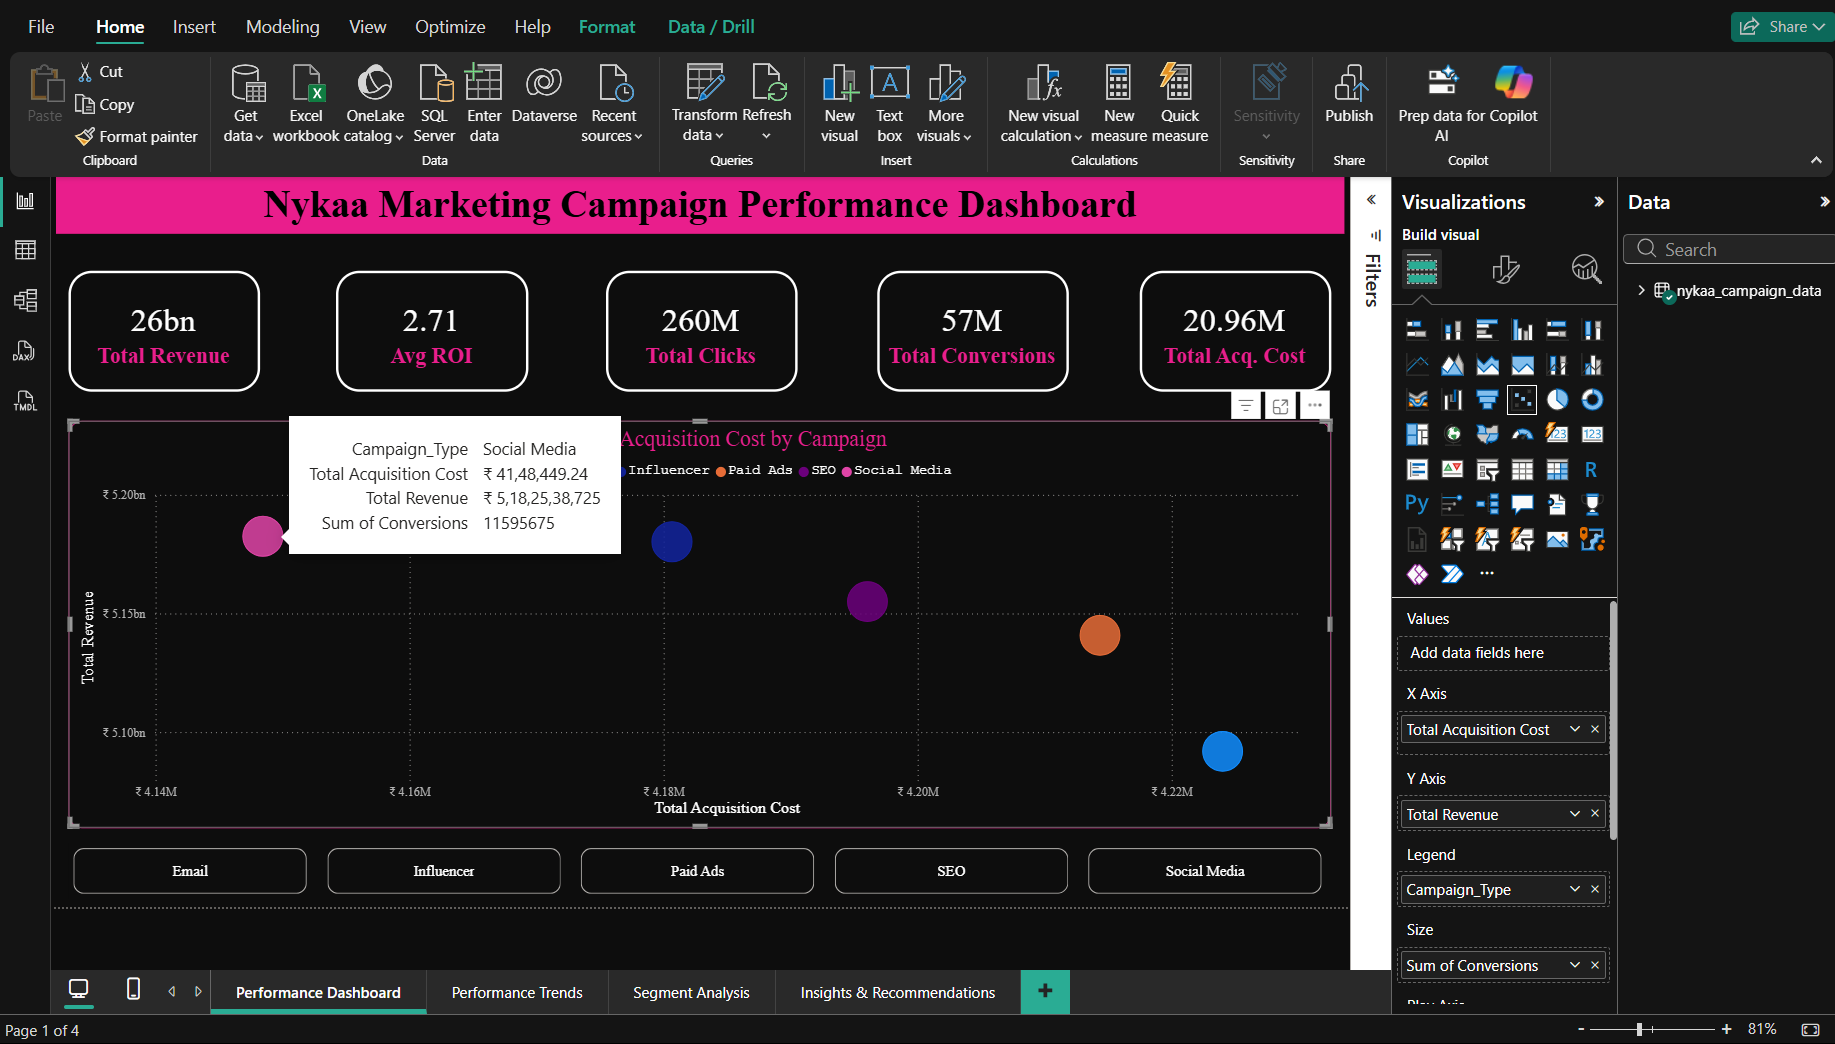

The dashboard page shown, as its layout file describes it:
{"tool":"powerbi","page":{"name":"Performance Dashboard","canvas":[1280,720],"ordinal":0},"visuals":[{"type":"textbox","box":[5.3,0,1269.4,55.8],"z":0},{"type":"card","fields":{"Values":["Sum(nykaa_campaign_data.Revenue)"]},"box":[17.2,92.4,188.5,119.5],"z":1000},{"type":"card","fields":{"Values":["Avg(nykaa_campaign_data.ROI)"]},"box":[280.8,92.4,189.7,119.5],"z":2000},{"type":"card","fields":{"Values":["Sum(nykaa_campaign_data.Clicks)"]},"box":[546.9,92.4,188.5,119.5],"z":3000},{"type":"card","fields":{"Values":["Sum(nykaa_campaign_data.Conversions)"]},"box":[814.2,92.4,188.5,119.5],"z":4000},{"type":"card","fields":{"Values":["Sum(nykaa_campaign_data.Acquisition_Cost)"]},"box":[1072.8,92.4,188.5,119.5],"z":5000},{"type":"scatterChart","title":"Revenue vs Acquisition Cost by Campaign","fields":{"X":["Sum(nykaa_campaign_data.Acquisition_Cost)"],"Y":["Sum(nykaa_campaign_data.Revenue)"],"Series":["nykaa_campaign_data.Campaign_Type"],"Size":["Sum(nykaa_campaign_data.Conversions)"]},"box":[17.2,240.2,1244,401.5],"z":6500},{"type":"advancedSlicerVisual","title":"Campaign Type","fields":{"Values":["nykaa_campaign_data.Campaign_Type"]},"box":[17.2,656.5,1244,55.4],"z":7000}]}

Visuals, with their boxes on the page's 1280x720 design canvas (x1, y1, x2, y2). These are canvas units, not pixel positions in the 1835x1044 screenshot, which may show the page scaled, cropped or inside an application window:
textbox: (x1=5, y1=0, x2=1275, y2=56)
card - Sum(nykaa_campaign_data.Revenue): (x1=17, y1=92, x2=206, y2=212)
card - Avg(nykaa_campaign_data.ROI): (x1=281, y1=92, x2=470, y2=212)
card - Sum(nykaa_campaign_data.Clicks): (x1=547, y1=92, x2=735, y2=212)
card - Sum(nykaa_campaign_data.Conversions): (x1=814, y1=92, x2=1003, y2=212)
card - Sum(nykaa_campaign_data.Acquisition_Cost): (x1=1073, y1=92, x2=1261, y2=212)
"Revenue vs Acquisition Cost by Campaign" scatterChart: (x1=17, y1=240, x2=1261, y2=642)
"Campaign Type" advancedSlicerVisual: (x1=17, y1=656, x2=1261, y2=712)
